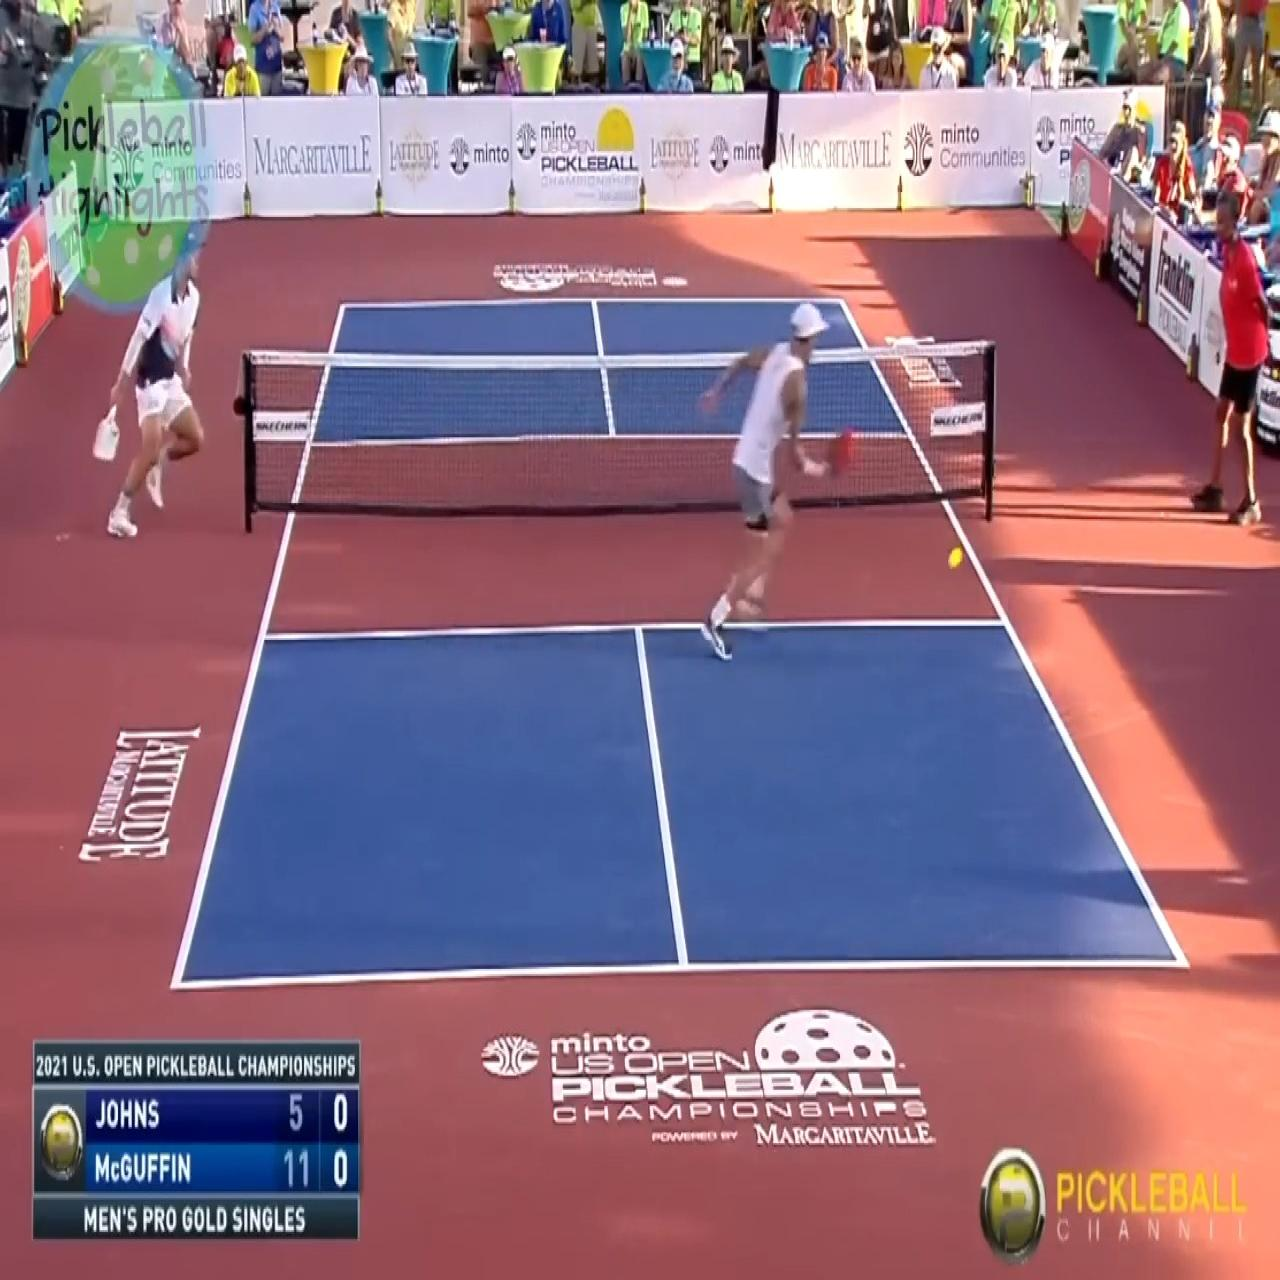pickleball: (947, 546, 964, 567)
